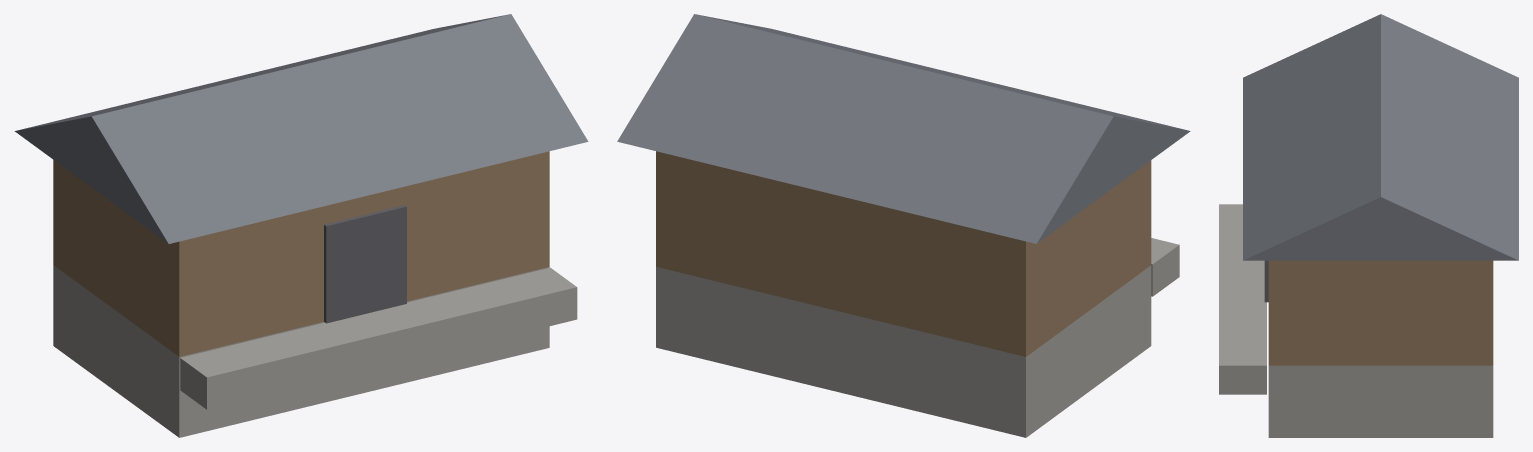
Rendered from landmark-kandern-gueterhalle.glb.
3 renders of one model, left to right at view 1: azimuth 30°, elevation 25°; view 2: azimuth 150°, elevation 25°; view 3: azimuth 270°, elevation 25°, orthographic. The views are drawn at different scales.
Visible parts, largest first — view 1: building; view 2: building; view 3: building.
Boxes of the visible parts, x1=… form: building: x1=14, y1=14, x2=588, y2=437; building: x1=617, y1=14, x2=1190, y2=437; building: x1=1219, y1=14, x2=1518, y2=437.
Size of the model in its own units: 13.56 by 8.7 by 9.39.
